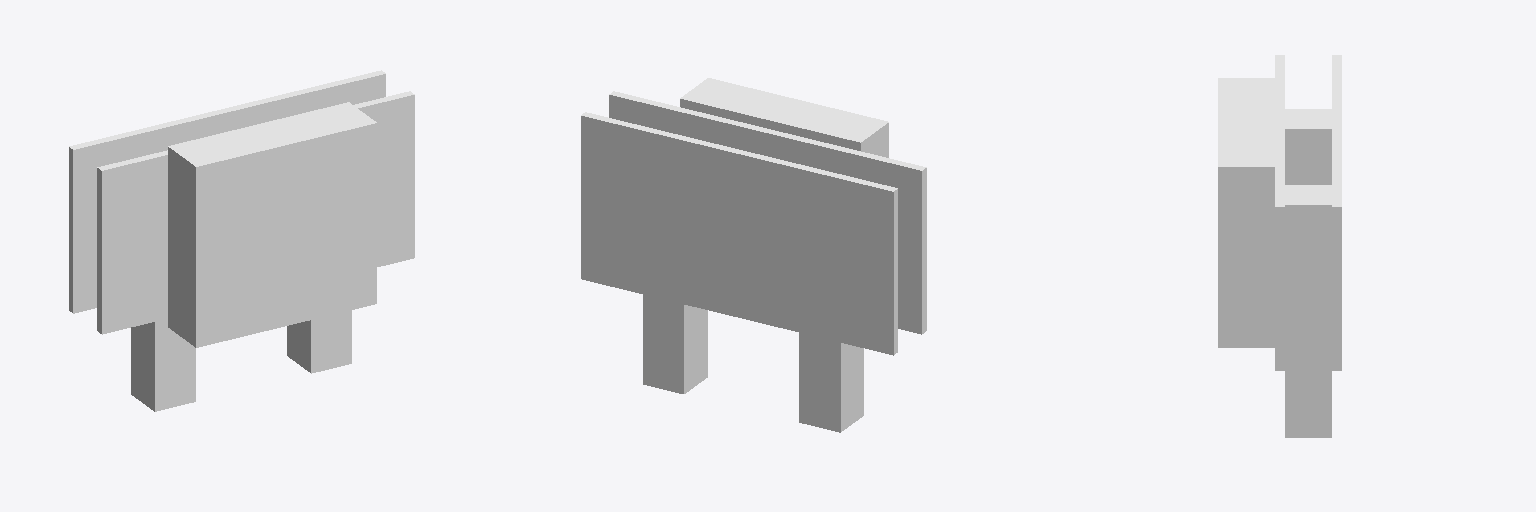
The model's file is Wall_Lamp.obj.
3 renders of one model, left to right at view 1: azimuth 30°, elevation 25°; view 2: azimuth 150°, elevation 25°; view 3: azimuth 270°, elevation 25°, orthographic.
Bounding box in the file's own units: 38 × 31 × 13.